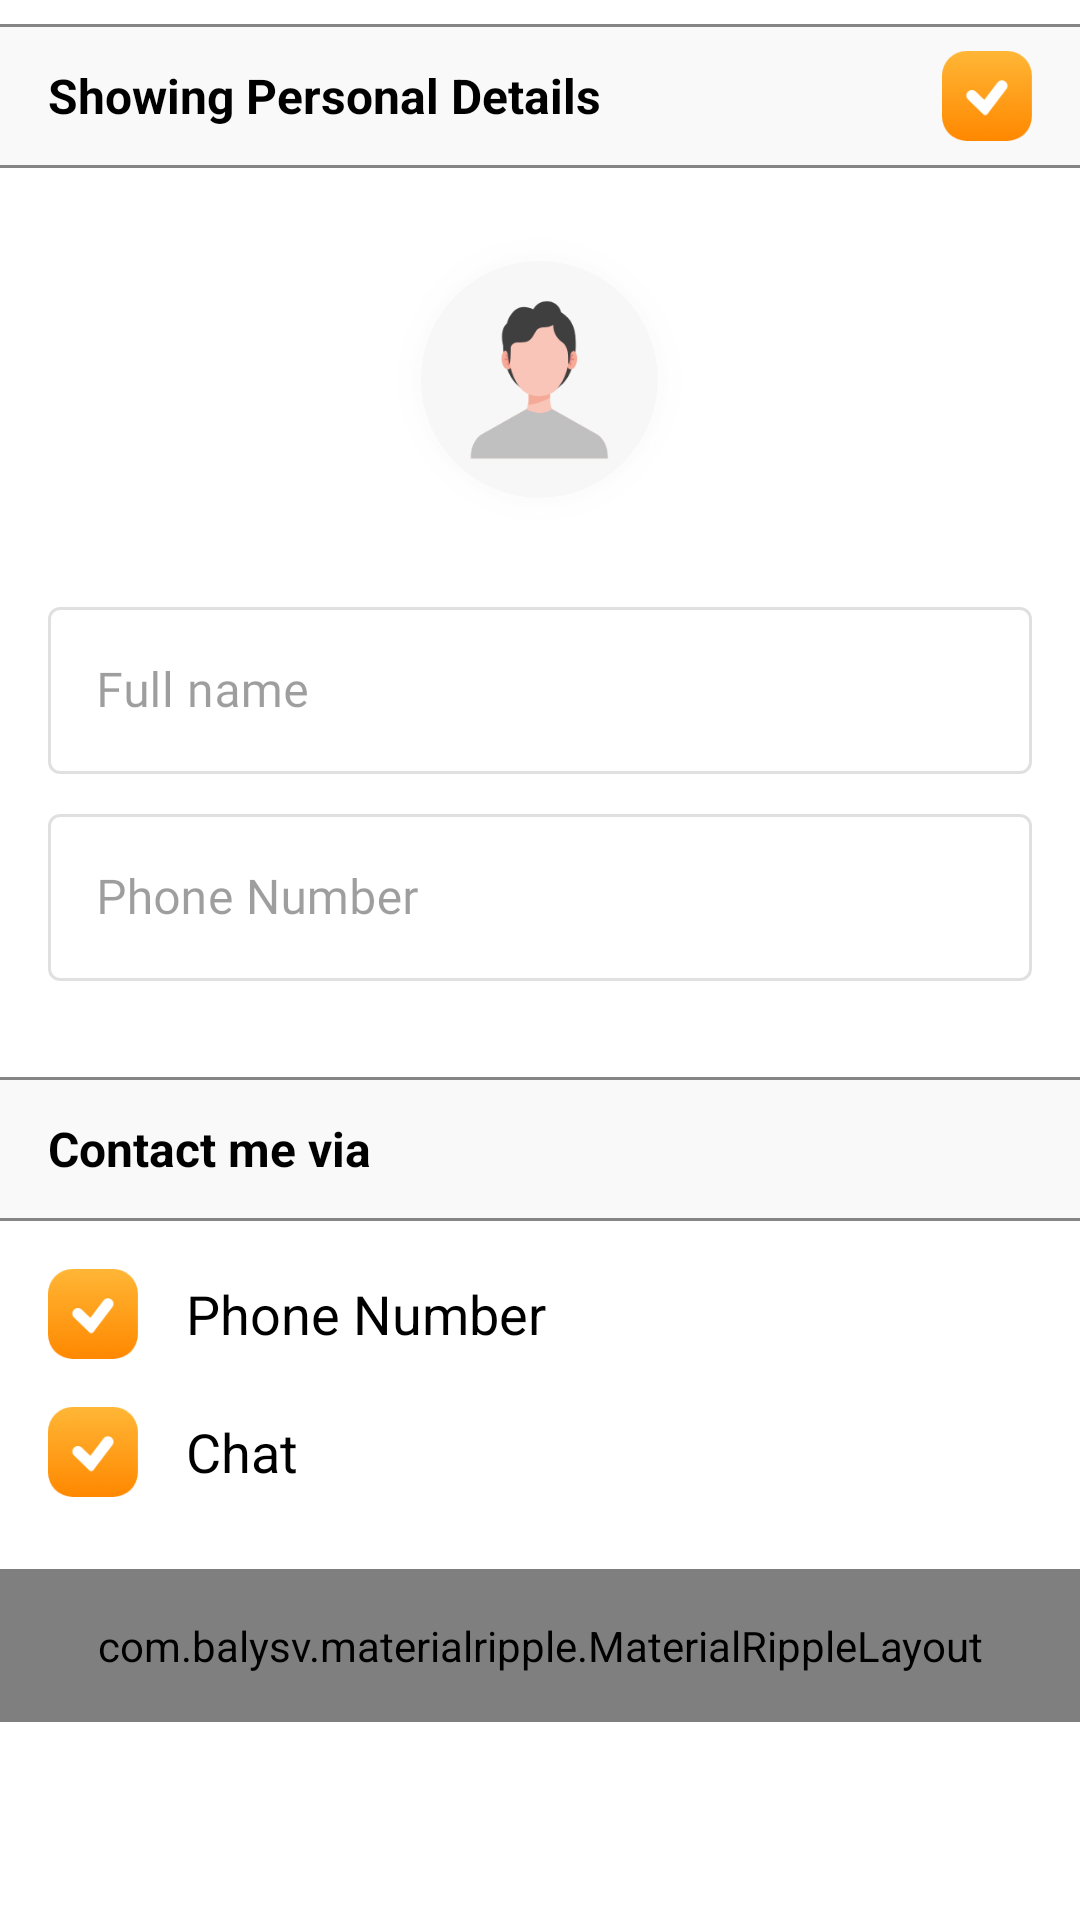

Where to tap for icons on this 1080px×1920px app screen, as (x,y):
check box: (987,96), (93,1314), (93,1452)
profile place holder: (539,380)
